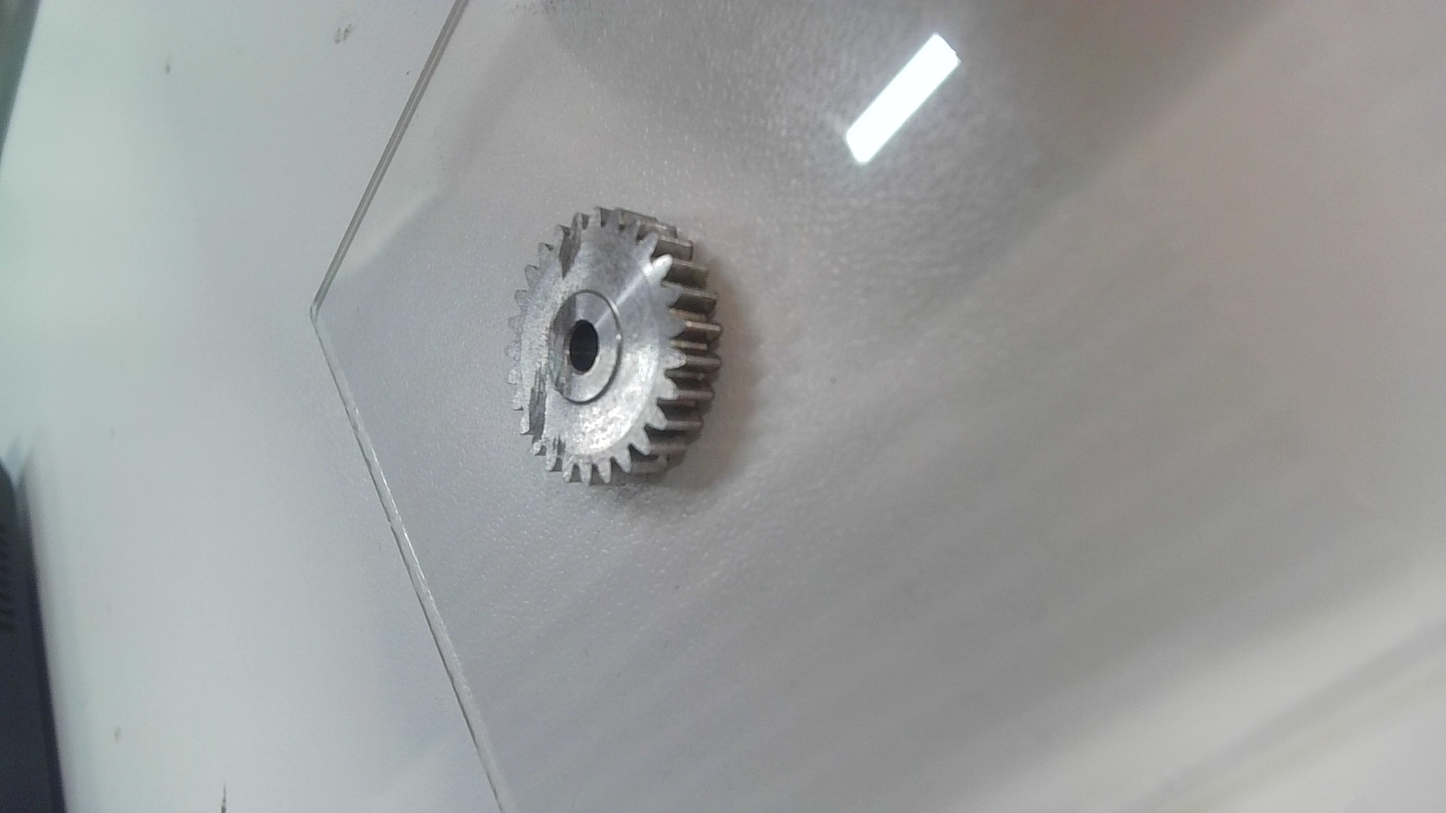gear: (499, 203, 725, 499)
